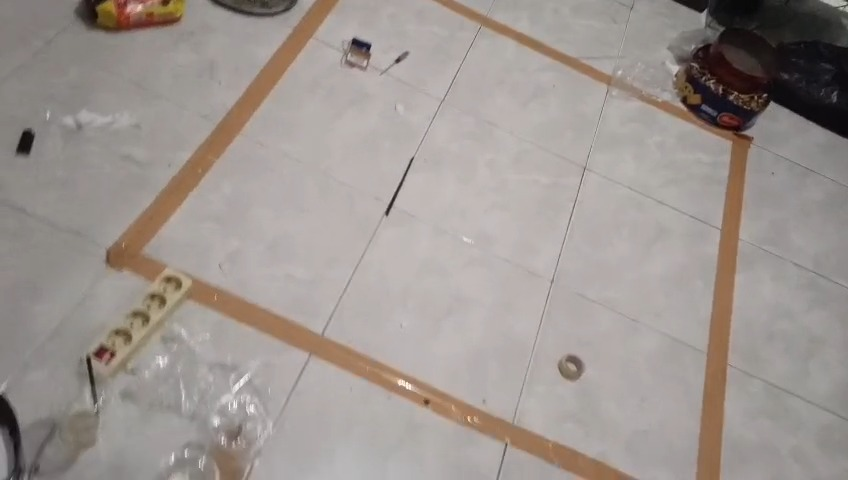floor marking: (191, 280, 631, 479), (107, 0, 337, 279), (616, 83, 751, 479), (434, 0, 613, 85)
